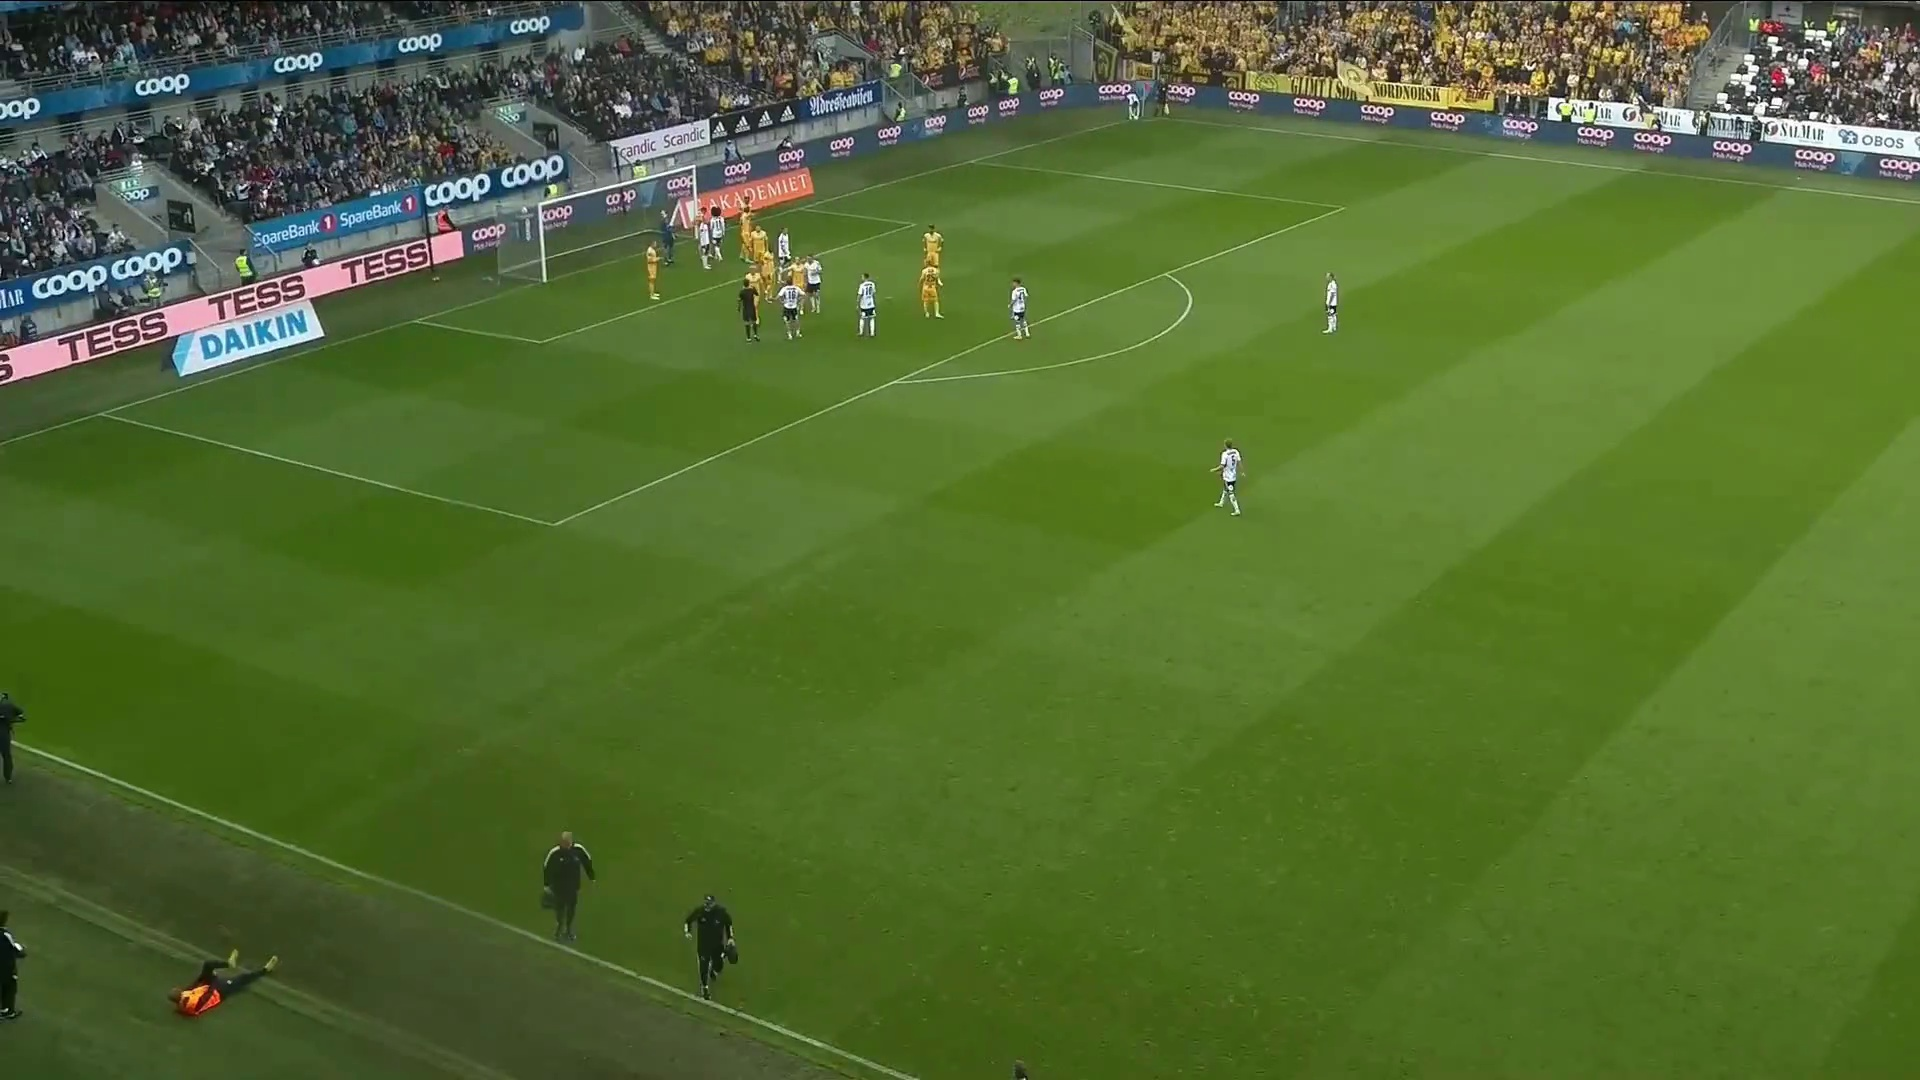ball: (1132, 115, 1140, 122)
player: (1210, 438, 1245, 516), (776, 272, 805, 340), (918, 258, 945, 320), (737, 277, 762, 343), (784, 254, 810, 316), (756, 224, 776, 301), (1008, 277, 1031, 341), (856, 271, 877, 337), (736, 196, 755, 262), (803, 253, 823, 315), (708, 202, 727, 262), (1321, 271, 1339, 334), (658, 209, 677, 267), (645, 240, 662, 299), (695, 216, 713, 269), (922, 224, 944, 267), (750, 223, 770, 265), (776, 226, 792, 269), (1123, 92, 1141, 122)
